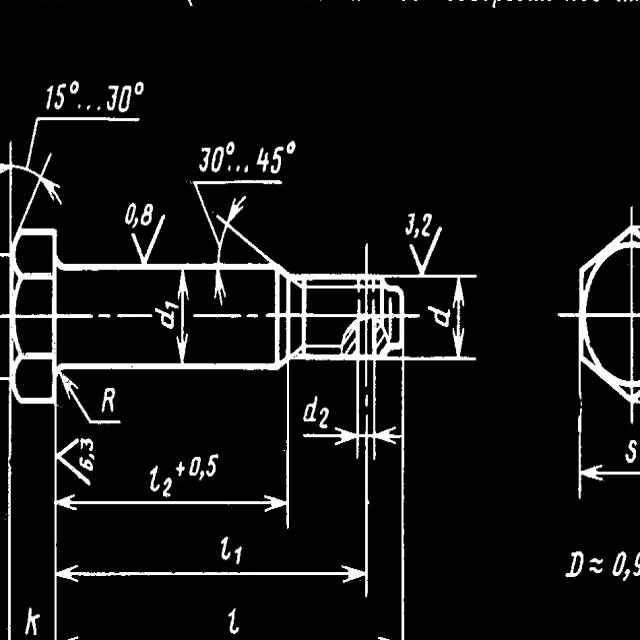marking_line: (53, 406, 372, 596), (52, 408, 291, 529), (301, 363, 401, 461), (184, 175, 293, 259), (406, 275, 479, 364), (577, 406, 640, 496), (0, 142, 63, 228), (60, 373, 121, 426), (176, 272, 192, 363), (211, 271, 230, 305)
numeric: (425, 300, 451, 332), (153, 306, 178, 332), (567, 548, 586, 580), (118, 81, 133, 114), (24, 606, 38, 636), (303, 394, 317, 423), (148, 462, 161, 493), (227, 605, 240, 636), (198, 145, 212, 172), (211, 146, 224, 173), (611, 551, 625, 576), (205, 451, 218, 477), (218, 535, 231, 561), (271, 148, 283, 176), (419, 211, 433, 235), (257, 148, 270, 173), (404, 212, 417, 235), (55, 83, 65, 112), (318, 406, 330, 430), (108, 84, 118, 112), (162, 476, 173, 501), (189, 452, 200, 477), (45, 84, 55, 111), (143, 202, 153, 227), (125, 203, 135, 224), (234, 545, 243, 567), (175, 461, 186, 478), (634, 549, 640, 577), (166, 300, 178, 311)
special_symbol: (131, 214, 168, 263), (58, 438, 94, 486), (410, 228, 443, 274), (588, 556, 605, 575), (224, 139, 236, 155), (285, 142, 297, 155), (69, 81, 79, 95), (135, 82, 143, 97), (621, 569, 631, 581), (130, 216, 139, 228), (227, 163, 233, 172), (236, 163, 241, 172), (244, 163, 248, 174), (85, 104, 91, 111), (95, 105, 101, 112), (76, 104, 82, 110)
